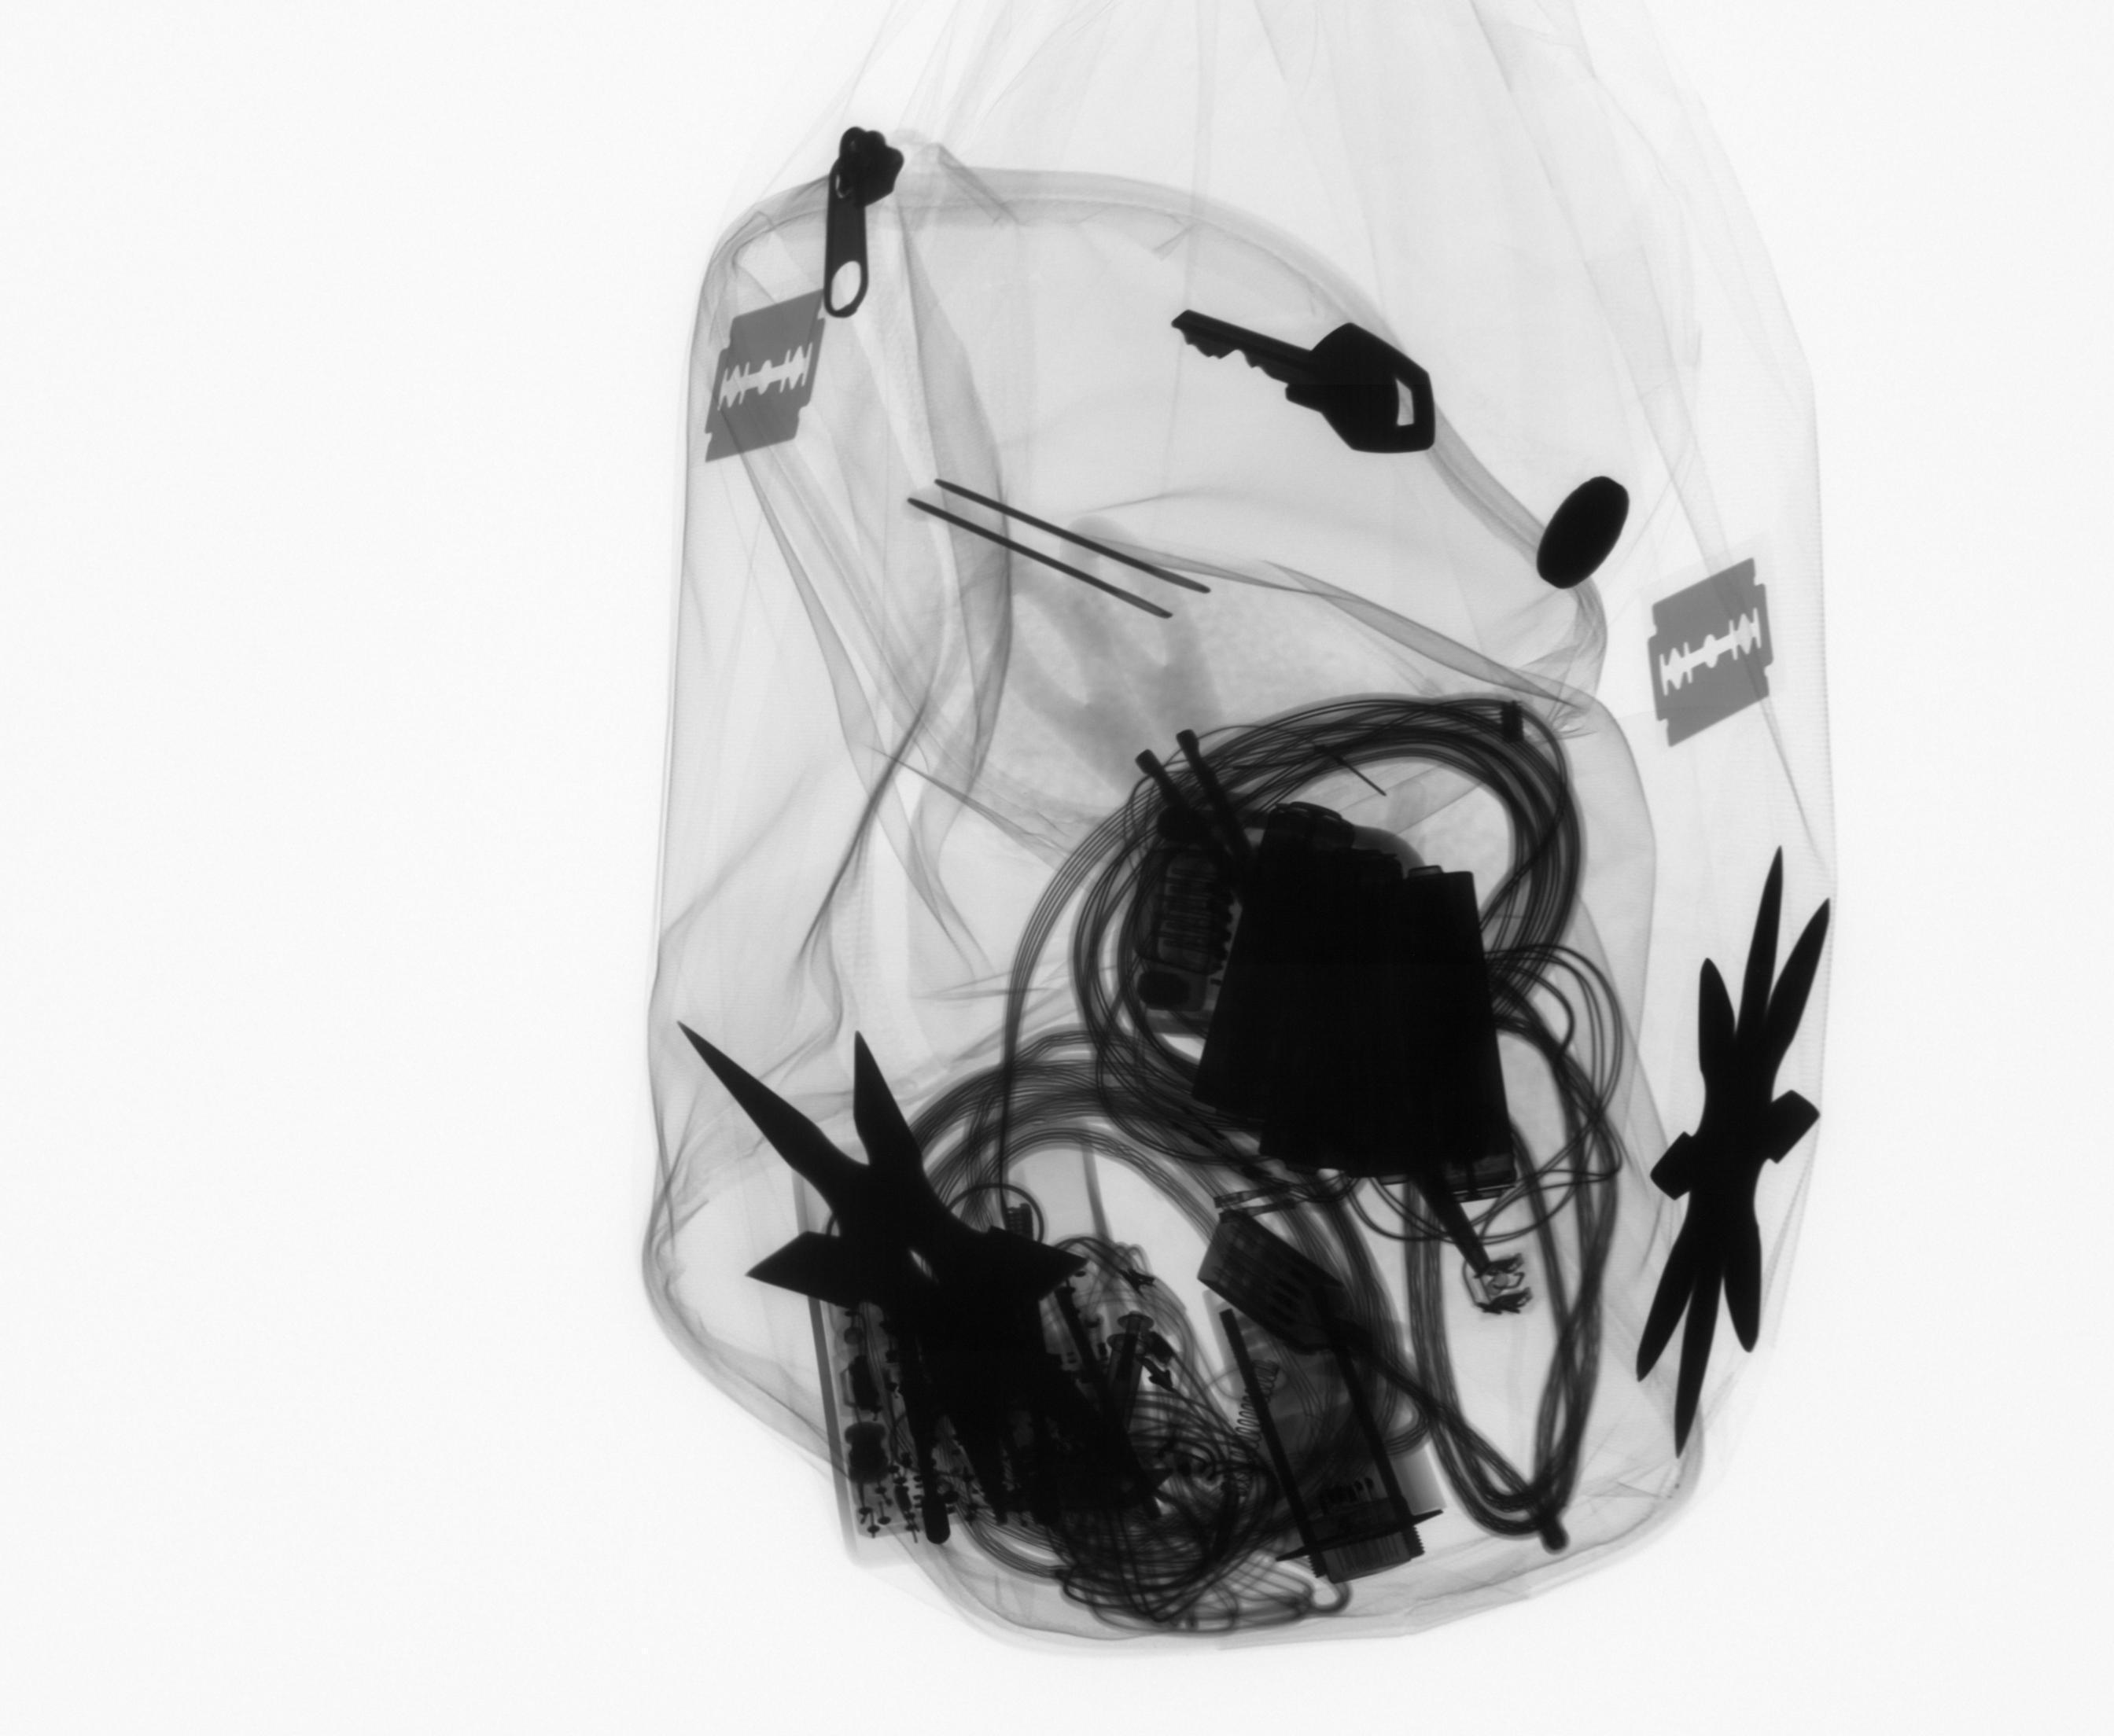RazorBlade: (1635, 553, 1793, 758), (694, 290, 843, 477)
Shuriken: (643, 1004, 1118, 1480), (1631, 839, 1849, 1501)
